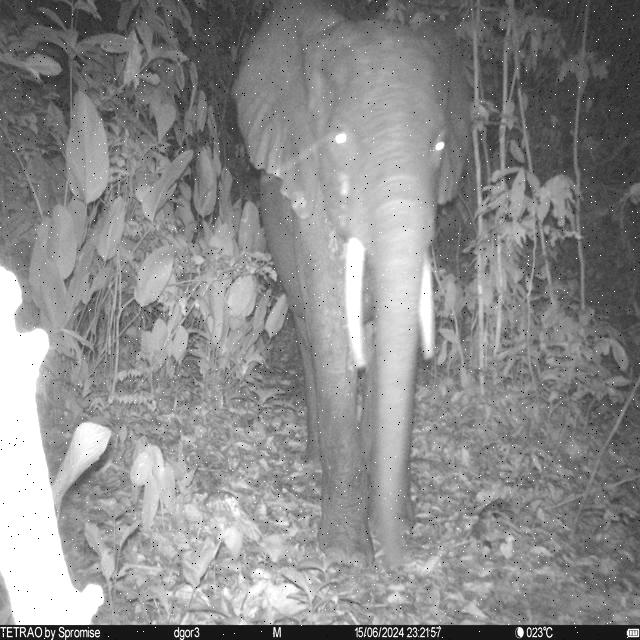ear: (229, 1, 351, 221), (415, 21, 475, 208)
elephant: (230, 1, 475, 568)
tusk: (342, 238, 370, 370), (416, 253, 439, 359)
